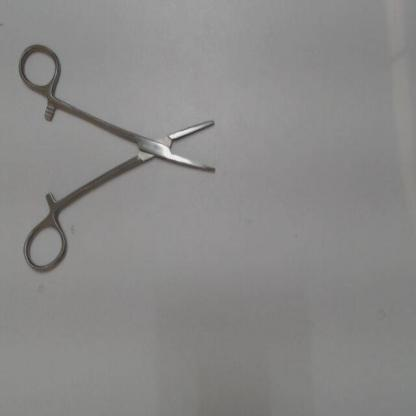Mayo Needle Holder: (14, 38, 230, 277)
